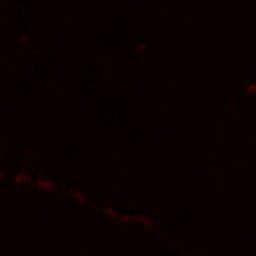debris: (8, 172, 37, 185), (121, 214, 157, 224), (105, 203, 120, 219), (71, 188, 85, 204), (37, 179, 53, 189)
